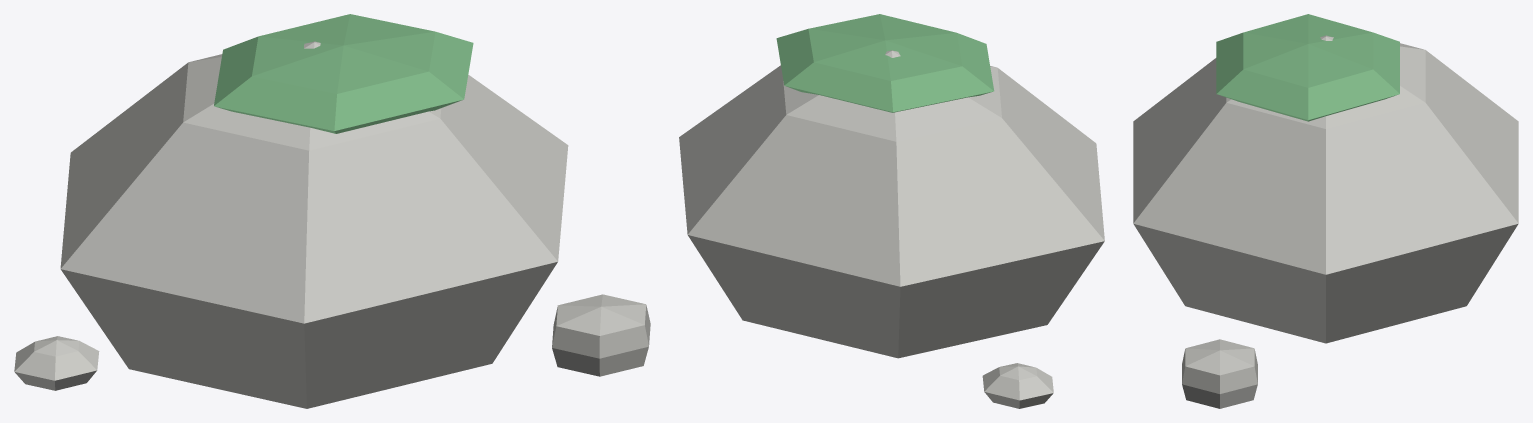
File: boulder-large.glb
The picture shows the model from 3 angles, left to right: view 1: azimuth 30°, elevation 25°; view 2: azimuth 150°, elevation 25°; view 3: azimuth 270°, elevation 25°; orthographic projection. The views are drawn at different scales.
Visible parts, largest first — view 1: boulder-large; view 2: boulder-large; view 3: boulder-large.
Boxes of the visible parts, x1,y1,x2,y2 form: boulder-large: (14, 14, 650, 408); boulder-large: (679, 14, 1104, 408); boulder-large: (1133, 14, 1518, 408).
Bounding box in the file's own units: 2.83 × 1.7 × 2.18.
